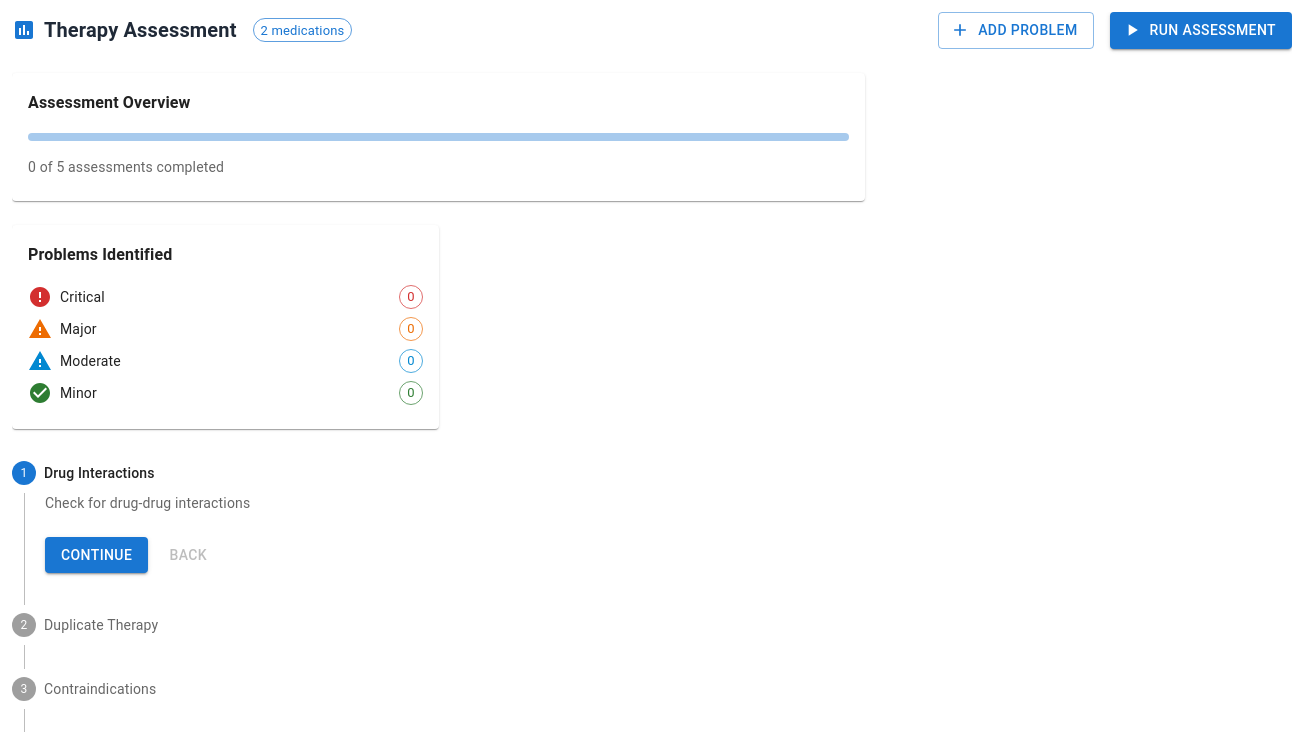
Test: TherapyAssessment › shows assessment progress when running assessment
This screenshot has width=1304, height=732.
Click the button "Run Assessment" at (1201, 30), box [1110,12,1292,48]
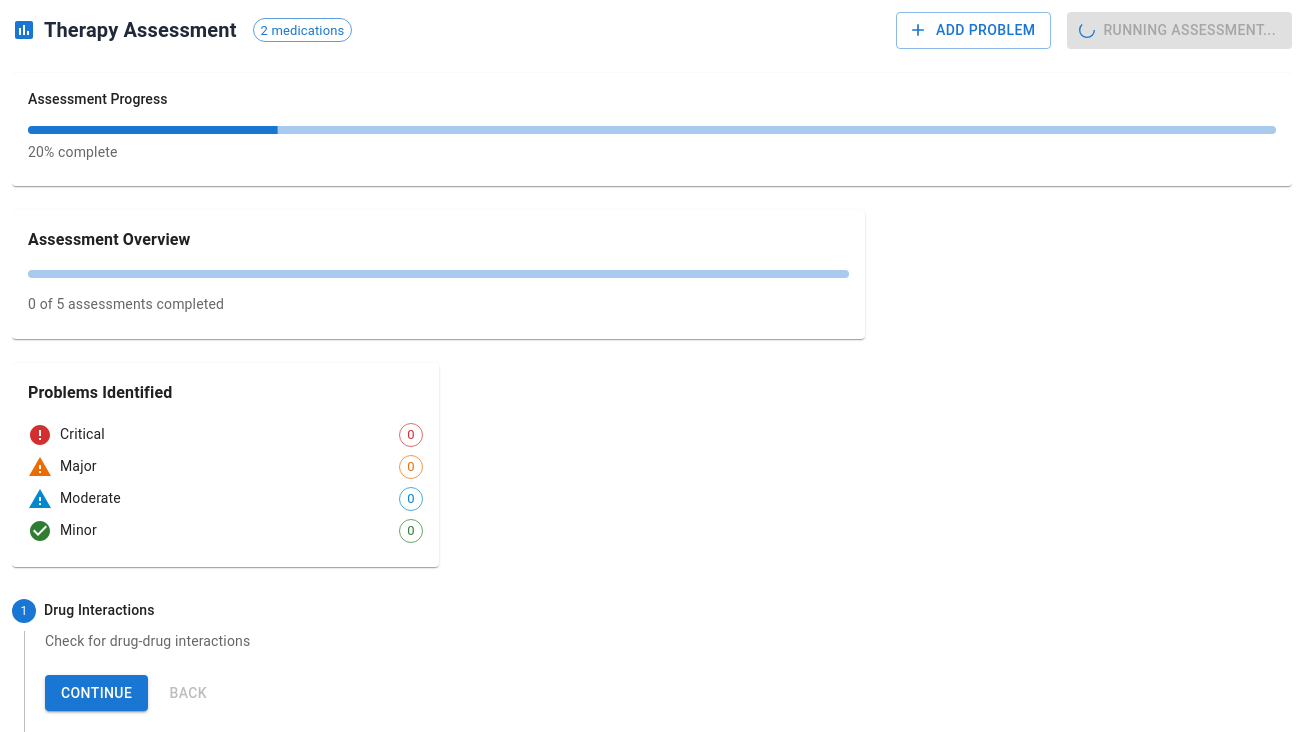
Check: the button "Running Assessment..." is shown, box [1068,12,1292,48]
